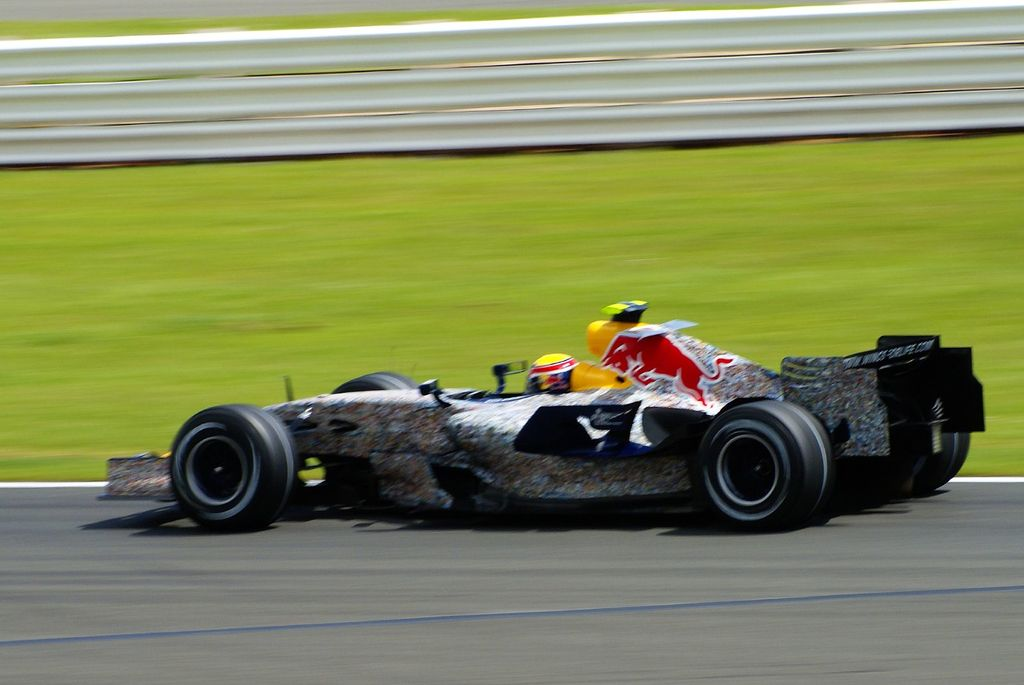Car: (94, 328, 988, 527)
